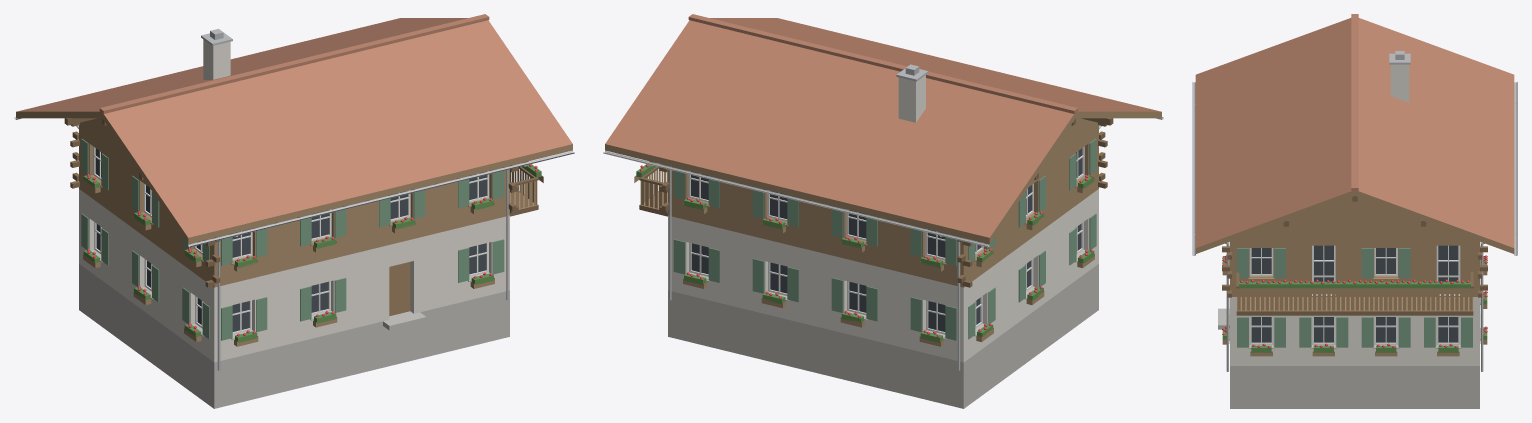
The model's file is chalet_2_m.glb.
The picture shows the model from 3 angles, left to right: view 1: azimuth 30°, elevation 25°; view 2: azimuth 150°, elevation 25°; view 3: azimuth 270°, elevation 25°; orthographic projection. The views are drawn at different scales.
Visible parts, largest first — view 1: chalet_2_m; view 2: chalet_2_m; view 3: chalet_2_m.
Boxes of the visible parts, bbox=[...] form: chalet_2_m: bbox=[14, 14, 574, 408]; chalet_2_m: bbox=[603, 14, 1163, 408]; chalet_2_m: bbox=[1192, 14, 1517, 408].
Bounding box in the file's own units: 15.64 × 11.12 × 12.36.
